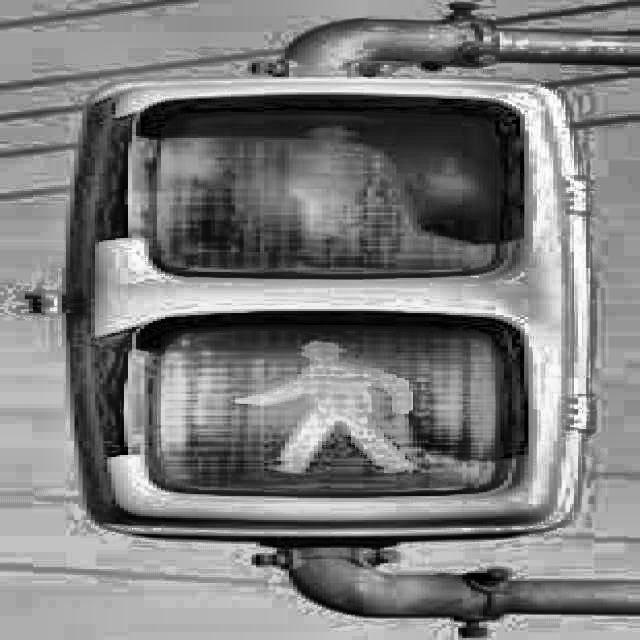semaforo pedestre: (57, 40, 605, 587)
